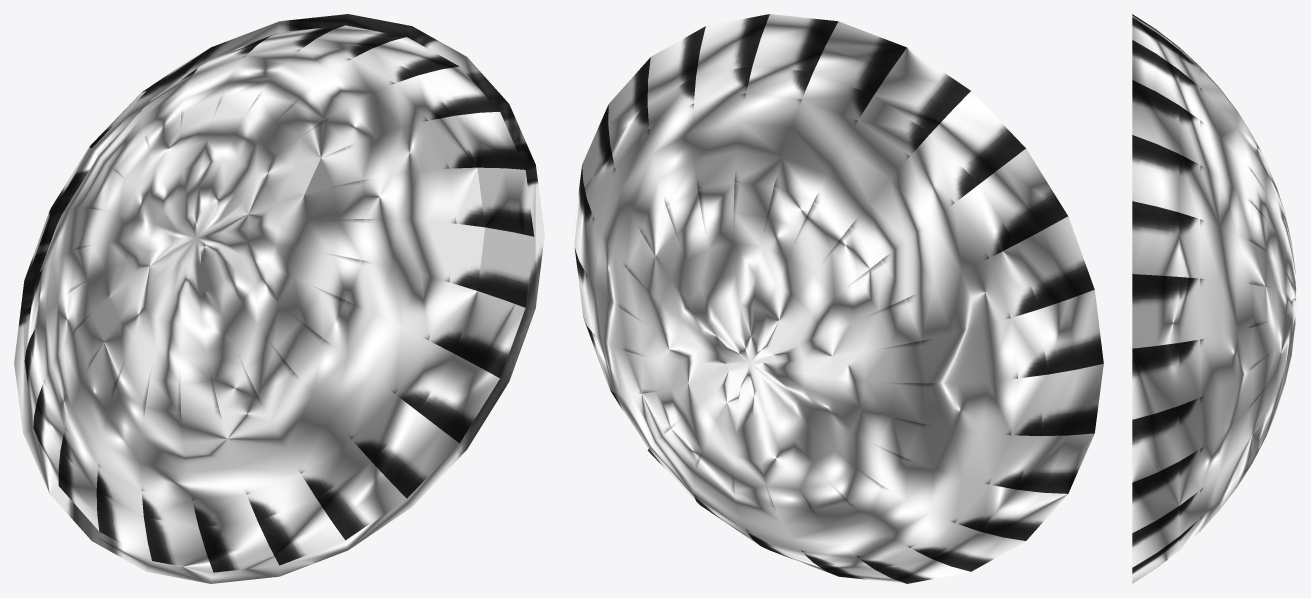
The model's file is model_align.obj.
3 views of the same model, side by side, from view 1: azimuth 30°, elevation 25°; view 2: azimuth 150°, elevation 25°; view 3: azimuth 270°, elevation 25° (orthographic). The views are drawn at different scales.
Size of the model in its own units: 0.1592 by 0.1592 by 0.0457.
